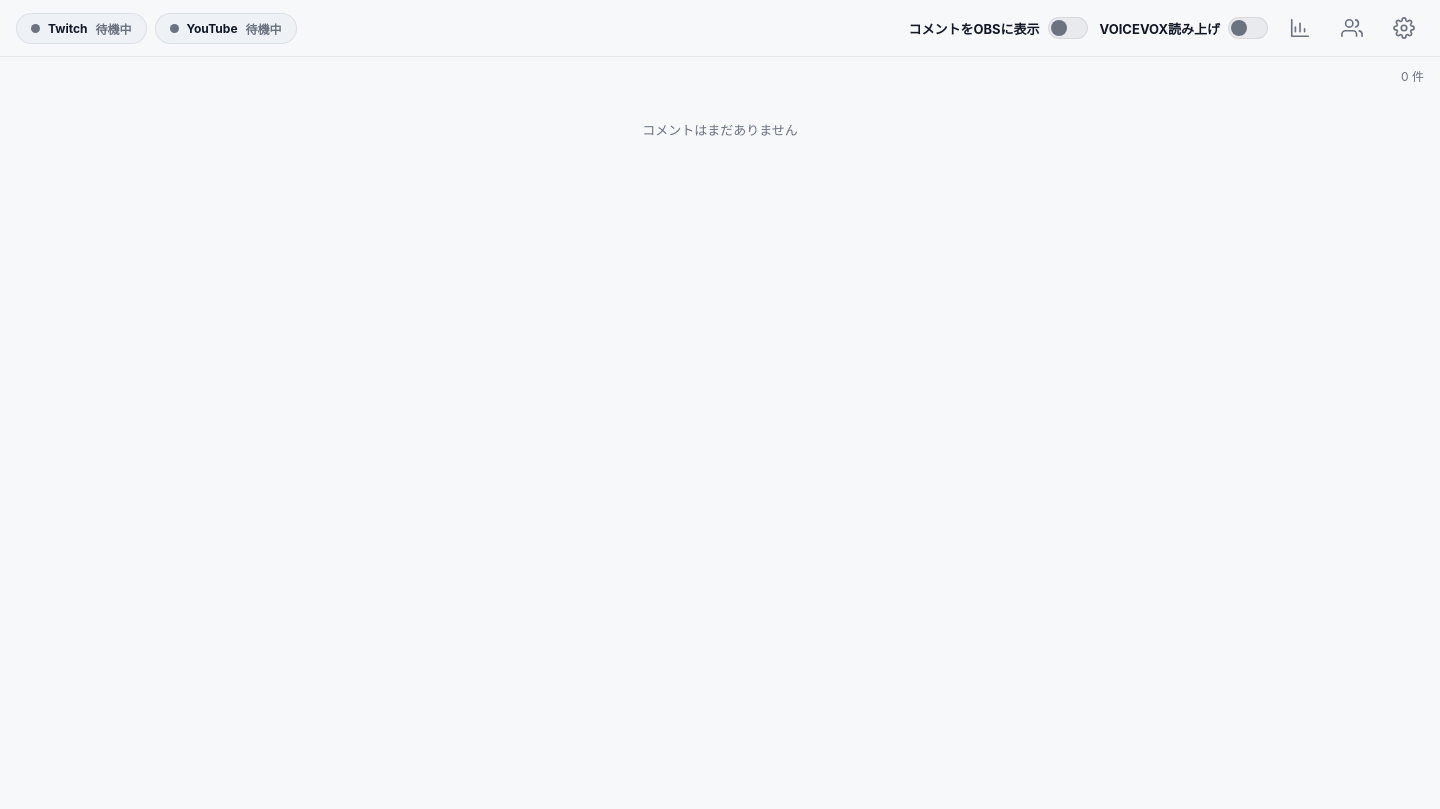
Test case: 061e OBS 連携の失敗がツールバーに出る（共有 obsState の上での出し分け） › ⚠⚠ T10' (2026-09-05 反転): stage の成功（added）は設定カードに出ない（出るのは comments / pinned だけ）
This screenshot has width=1440, height=809.
Step 1. Click the button named "設定" → (1404, 28), box [1384, 8, 1424, 48]
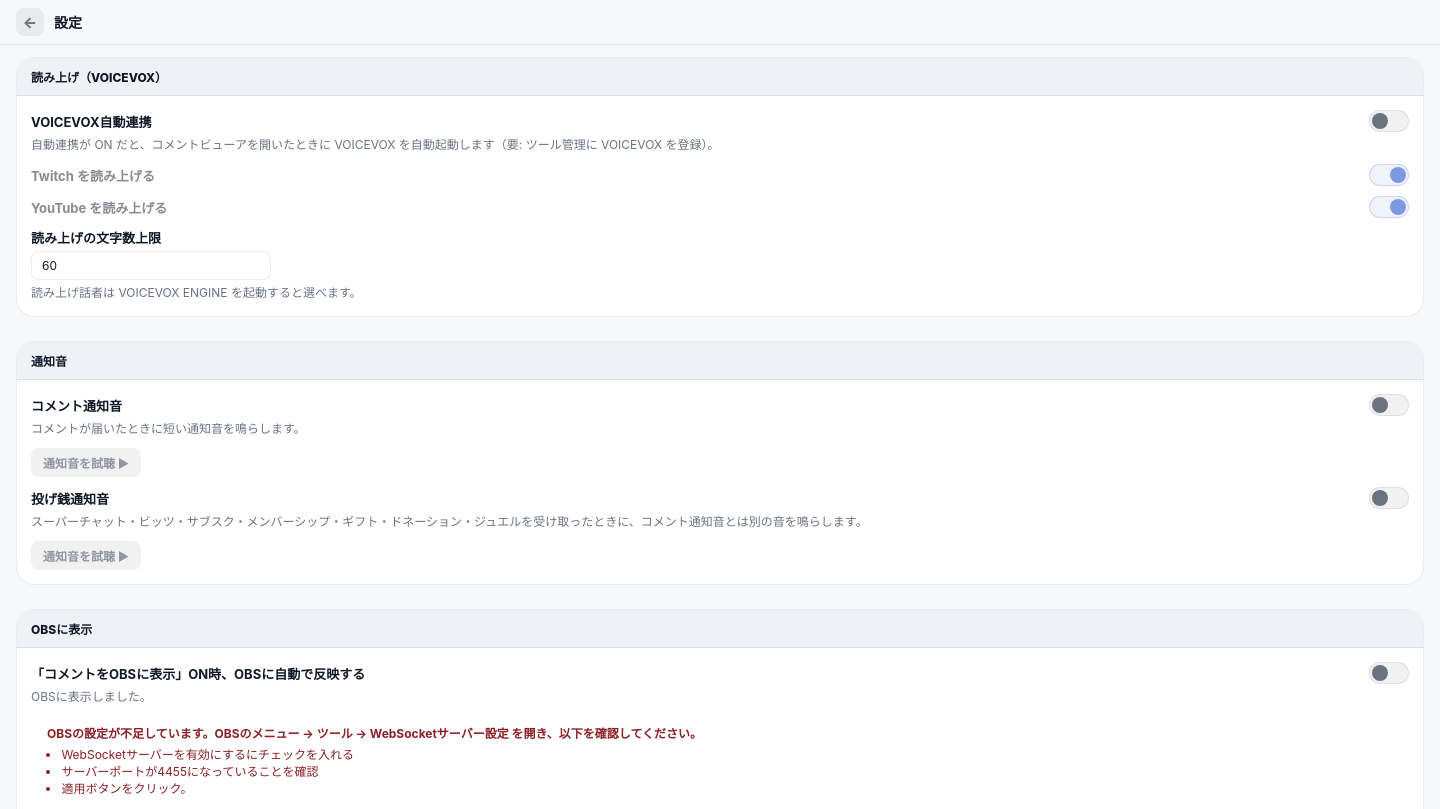
Now the text "OBSに表示しました。" is shown, box [31, 689, 152, 704]
